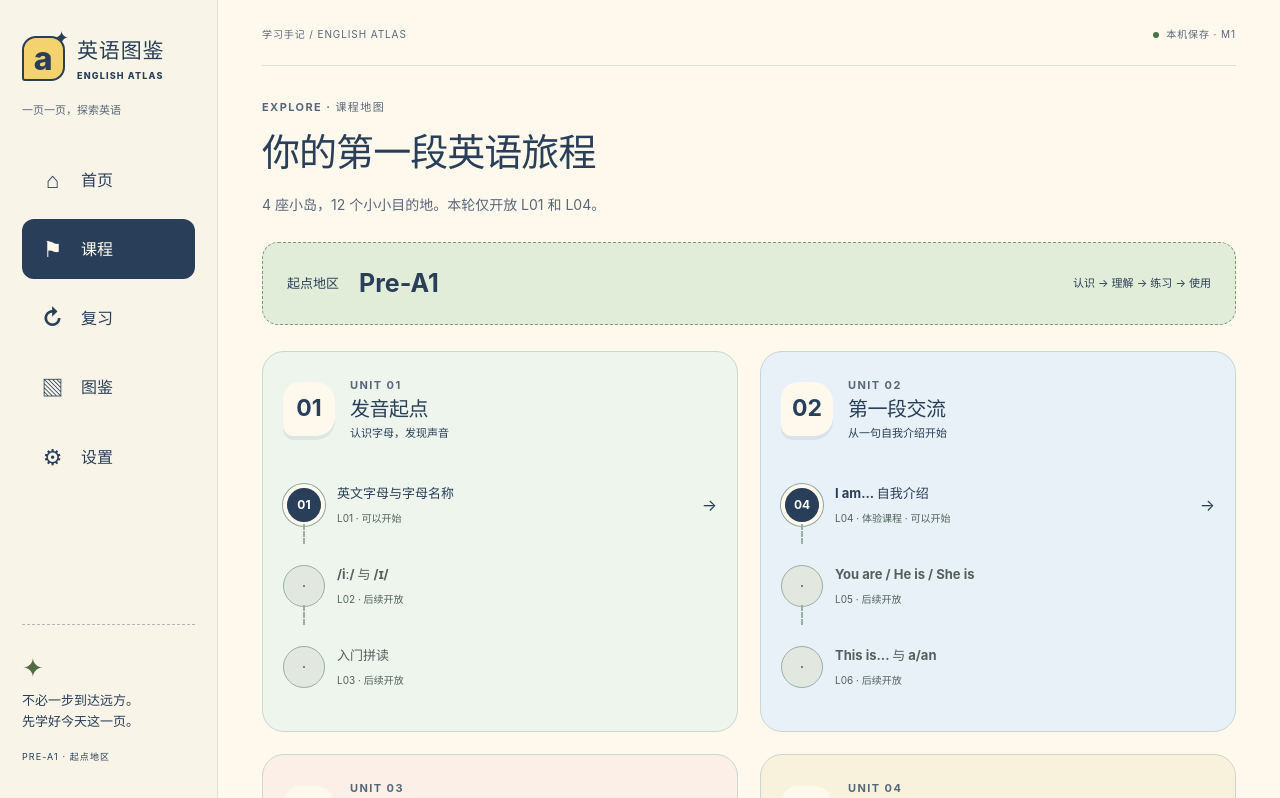
GitHub Pages 子目录和 hash 路由 › 导航保持 /english-atlas/ 前缀，跳到主要内容不破坏当前课程地址
Later steps or results of the test are not shown.
Expected: the heading "你的第一段英语旅程" is shown, [262, 129, 596, 175]
Click the link "04 I am... 自我介绍 L04 · 体验课程 · 可以开始 →" at (802, 505), box [781, 484, 1215, 526]
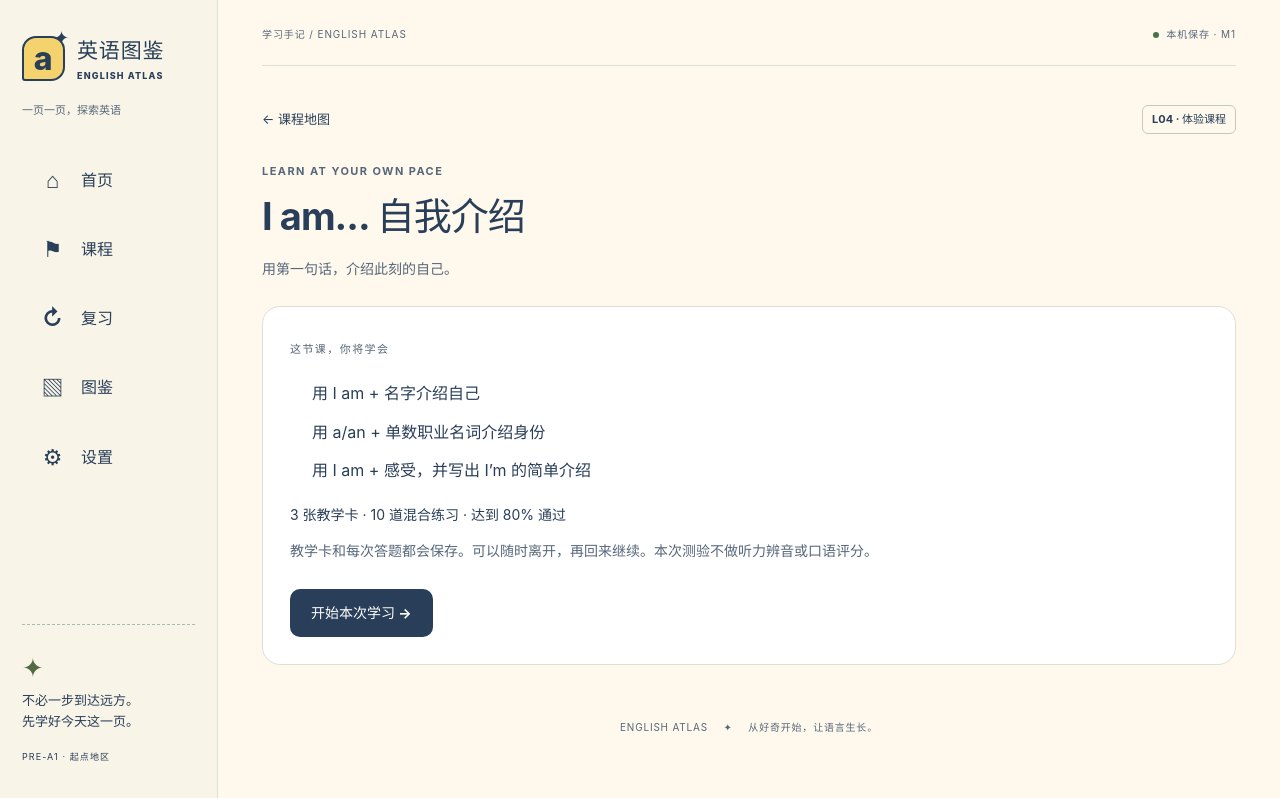
Expected: the heading "I am... 自我介绍" is shown, [262, 193, 525, 239]
